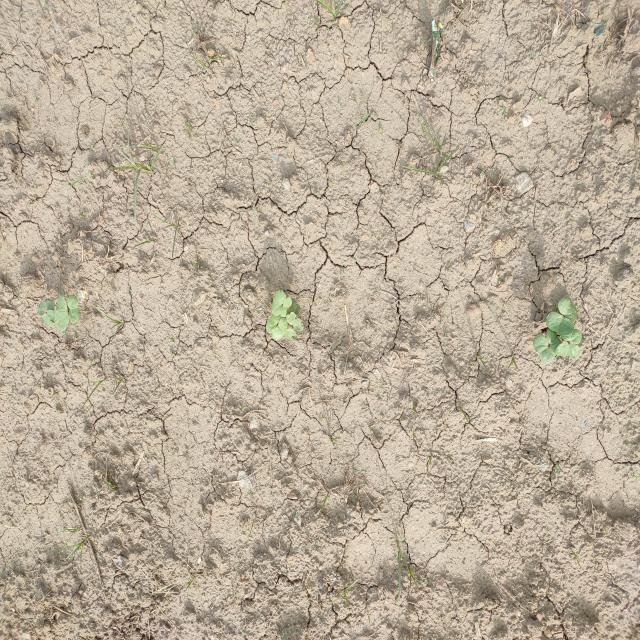seedling: (546, 311, 574, 336), (533, 335, 555, 364), (557, 298, 577, 321), (271, 290, 286, 316), (546, 329, 562, 353), (57, 295, 69, 325), (272, 318, 288, 340), (555, 343, 580, 357), (68, 295, 80, 324), (286, 312, 304, 331), (561, 329, 582, 344), (38, 299, 55, 315), (266, 315, 280, 334), (42, 309, 56, 326), (281, 298, 292, 317), (285, 328, 298, 340), (50, 322, 67, 331), (54, 310, 62, 325), (289, 304, 300, 314), (290, 298, 296, 308)
